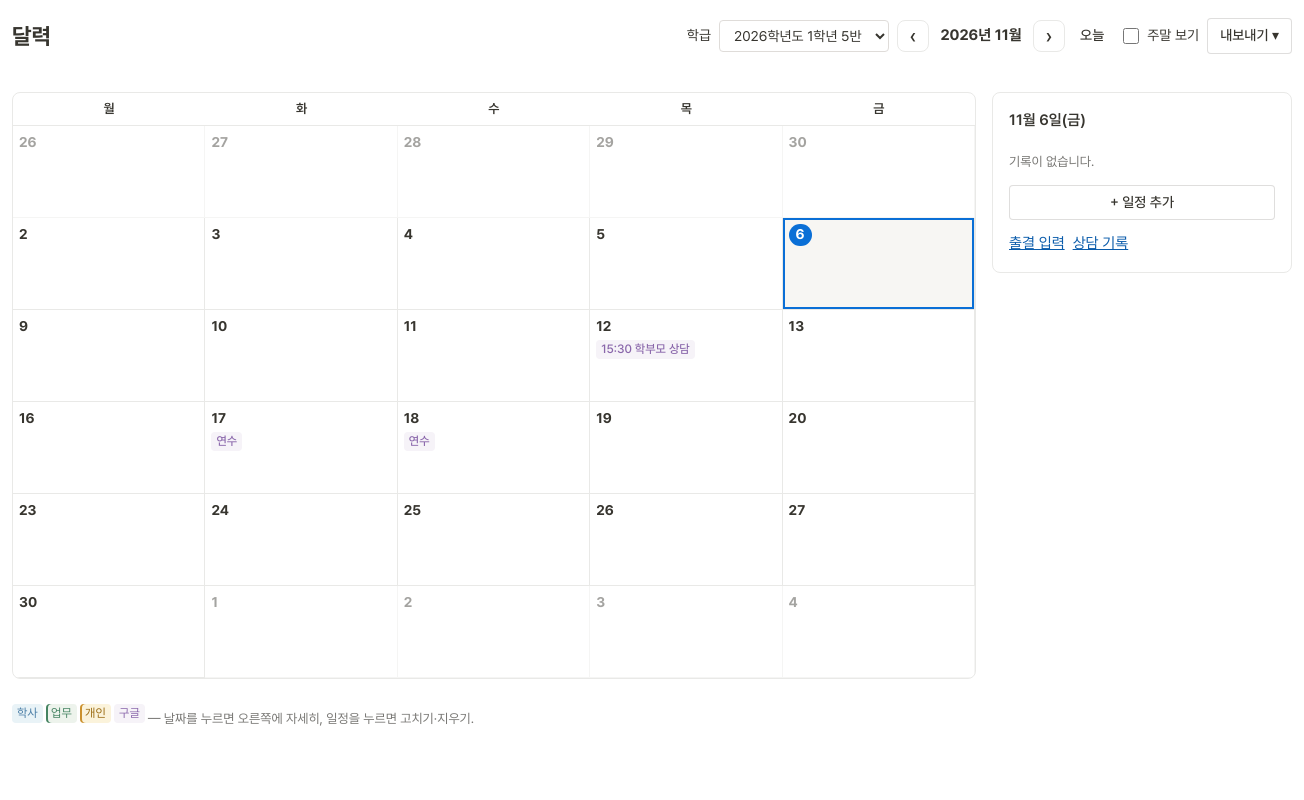
Test case: 구글에서 가져온 일정도 달력과 고른 날에 보인다(여러 날 일정은 날마다)
This screenshot has width=1304, height=800.
Expected: the text "15:30 학부모 상담" is shown, [596,340,695,359]
Expected: the 2nd text "연수" is shown, [404,432,435,451]
Click the cell named "11월 12일".
click(686, 356)  # box [590,310,783,402]
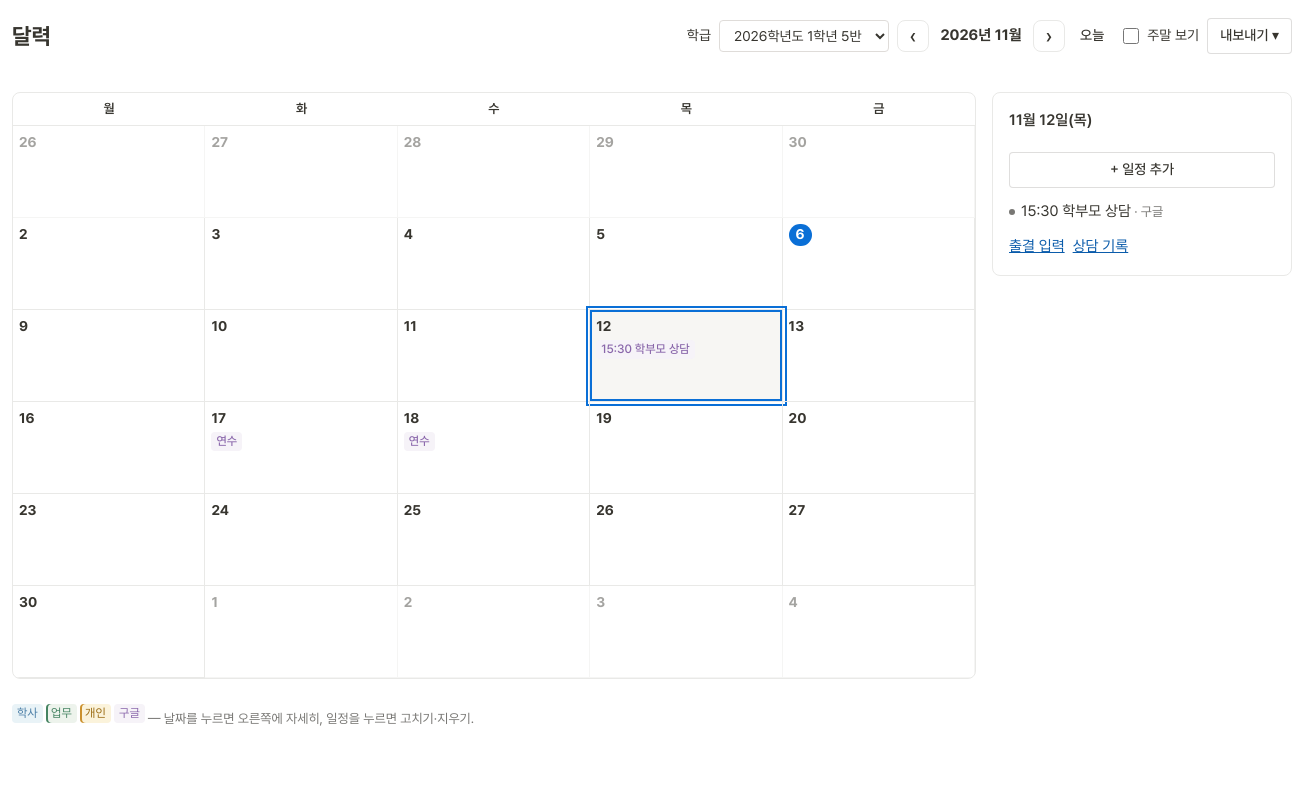
Result: the list item "15:30 학부모 상담" is shown at [1021,202,1131,220]
